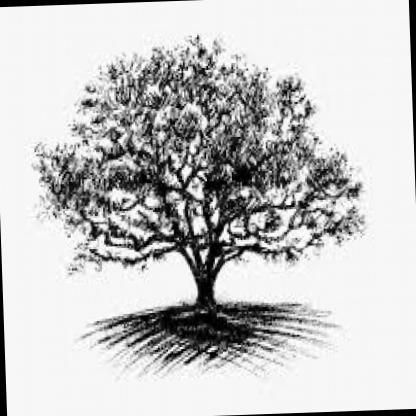crown_cloud: (31, 25, 371, 276)
root_none: (175, 297, 233, 319)
trunk_straight: (189, 280, 221, 298)
